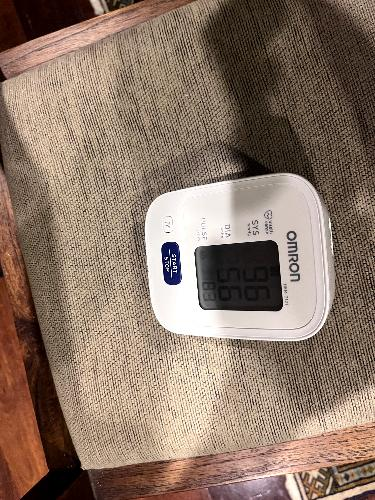bpm: (190, 237, 285, 316)
